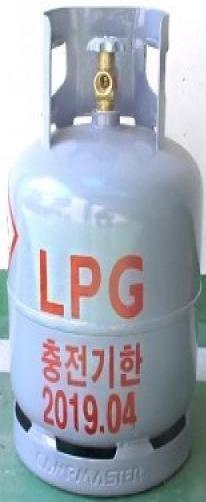cylinder: (1, 1, 206, 502)
